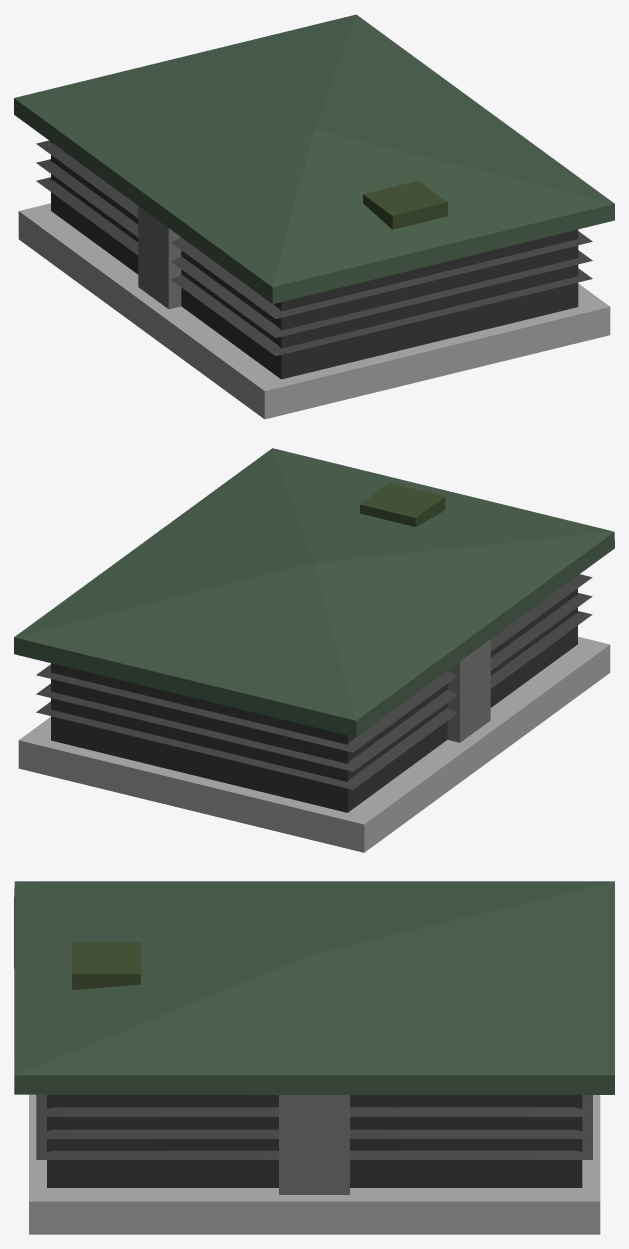
File: vent1.fbx
3 renders of one model, top to bottom at view 1: azimuth 30°, elevation 25°; view 2: azimuth 150°, elevation 25°; view 3: azimuth 270°, elevation 25°, orthographic. The views are drawn at different scales.
Visible parts, largest first — view 1: vent1; view 2: vent1; view 3: vent1.
Boxes of the visible parts, x1,y1,x2,y2 form: vent1: (14,14,614,419); vent1: (14,448,614,852); vent1: (14,881,614,1234).
Bounding box in the file's own units: 305 × 133 × 396.
